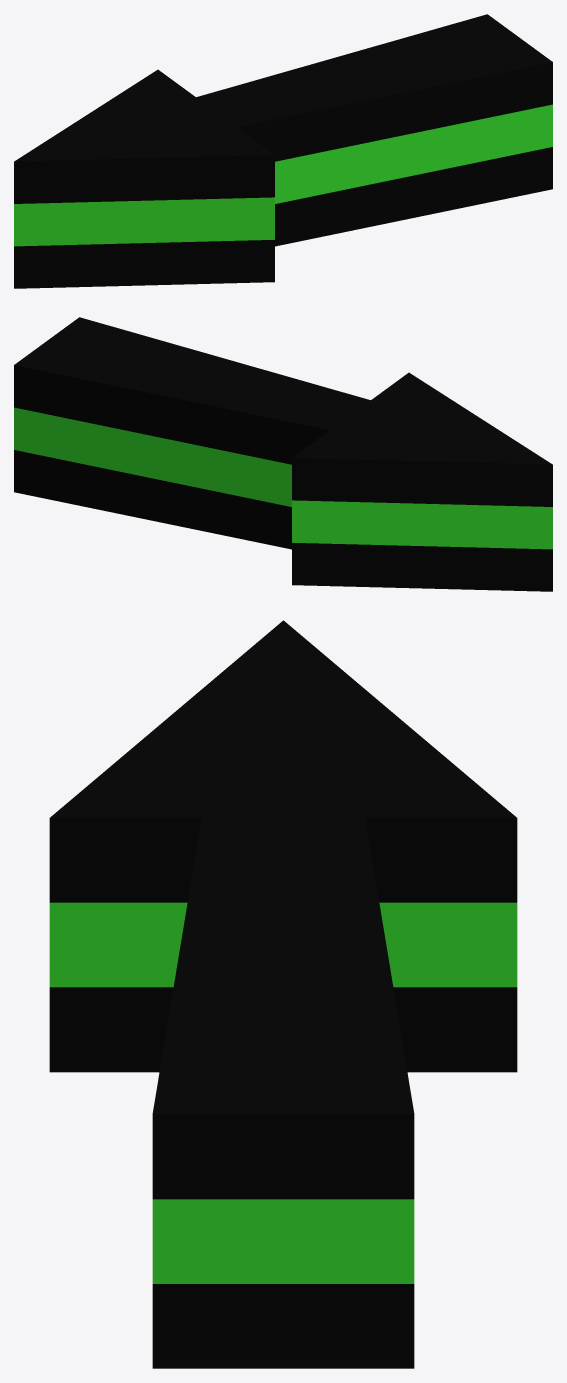
Rendered from DirectionIndicator.glb.
The picture shows the model from 3 angles, top to bottom: view 1: azimuth 30°, elevation 25°; view 2: azimuth 150°, elevation 25°; view 3: azimuth 270°, elevation 25°; orthographic projection. The views are drawn at different scales.
Parts seen in each view (by area): view 1: Cube.003, Cube.002, Cube.001; view 2: Cube.003, Cube.002, Cube.001; view 3: Cube.003, Cube.002, Cube.001.
Part boxes in pixels (bbox=[...]): Cube.003: bbox=[14, 14, 552, 203]; Cube.002: bbox=[14, 104, 552, 246]; Cube.001: bbox=[14, 147, 552, 288]; Cube.003: bbox=[14, 317, 552, 506]; Cube.002: bbox=[14, 407, 552, 549]; Cube.001: bbox=[14, 450, 552, 591]; Cube.003: bbox=[49, 620, 517, 1199]; Cube.002: bbox=[49, 902, 517, 1283]; Cube.001: bbox=[49, 987, 517, 1368].
Bounding box in the file's own units: 5 × 1.2 × 2.
